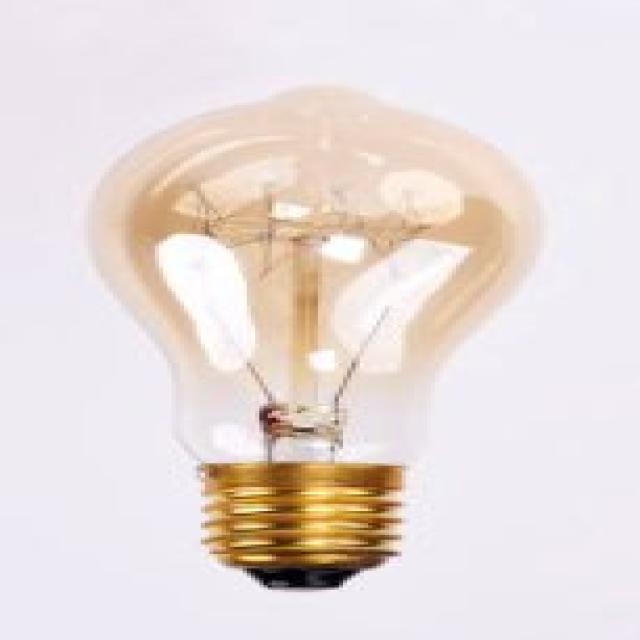electronic: (80, 81, 540, 590)
